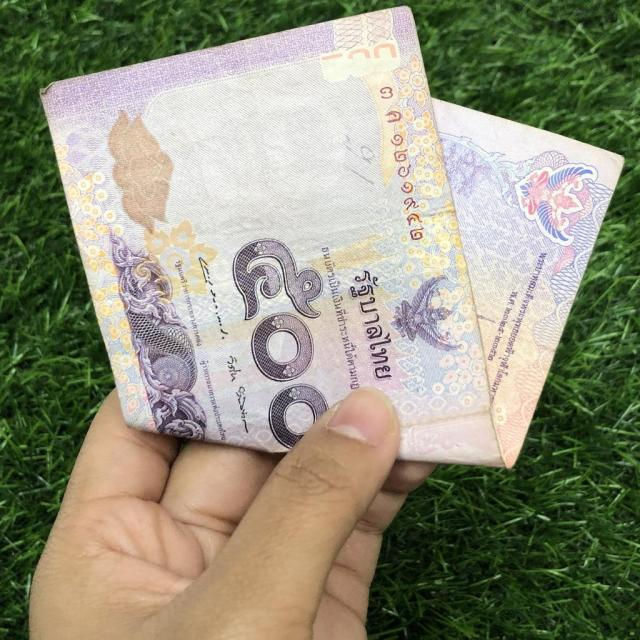THAI500: (40, 7, 624, 472)
